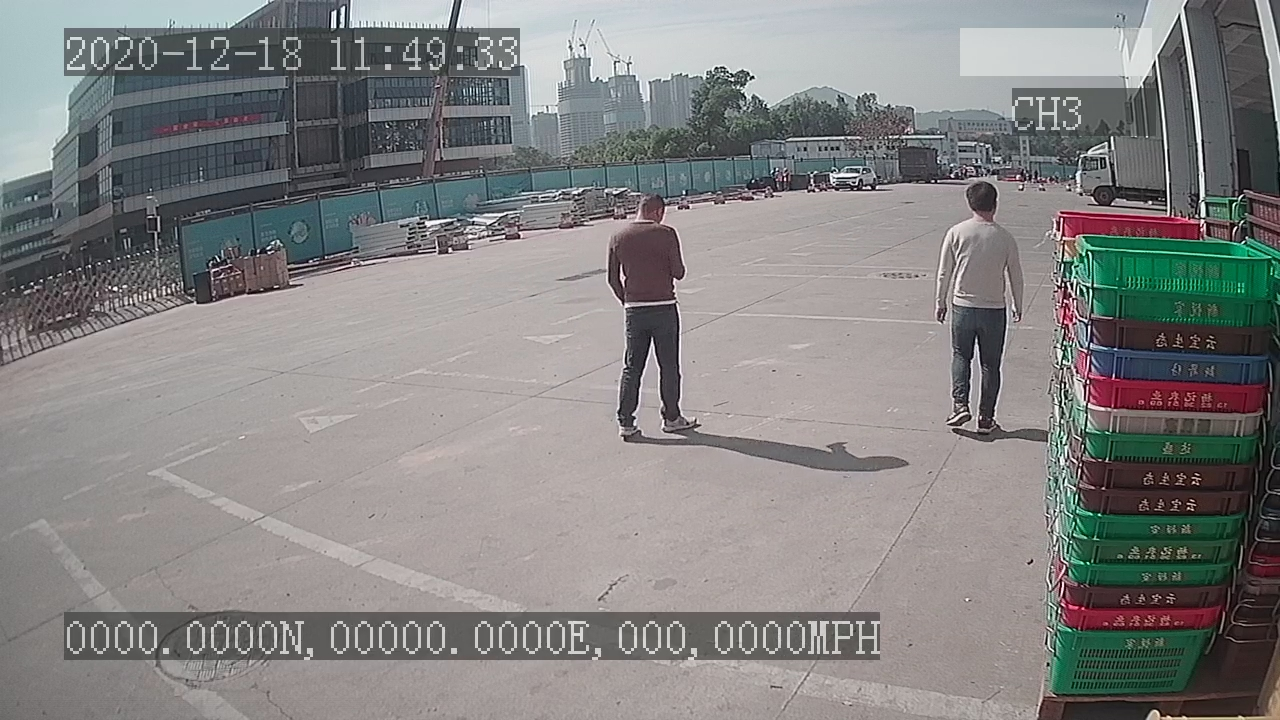person: (927, 177, 1031, 436), (602, 190, 702, 444)
